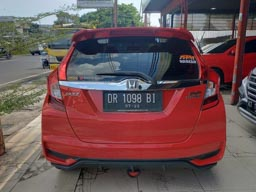plat: (106, 93, 162, 104)
